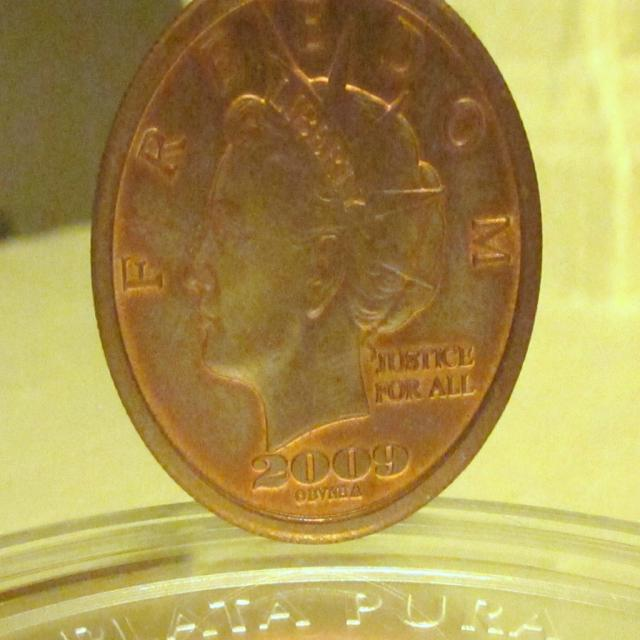Coin: (88, 0, 544, 538)
